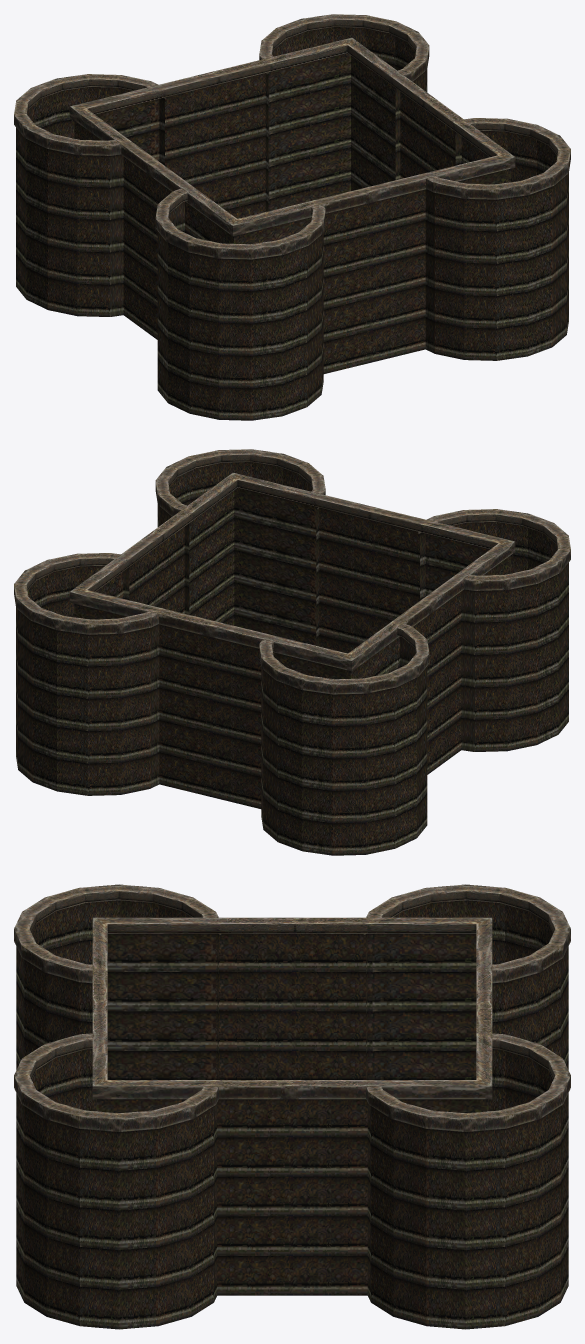
File: miniboss_01.fbx
3 views of the same model, one above another, from view 1: azimuth 30°, elevation 25°; view 2: azimuth 150°, elevation 25°; view 3: azimuth 270°, elevation 25° (orthographic). The views are drawn at different scales.
Visible parts, largest first — view 1: miniboss_01; view 2: miniboss_01; view 3: miniboss_01.
Part boxes in pixels (left/top/right/bottom): miniboss_01: left=14, top=14, right=570, bottom=420; miniboss_01: left=14, top=449, right=570, bottom=855; miniboss_01: left=14, top=884, right=570, bottom=1329.
Bounding box in the file's own units: 43.22 × 18.05 × 43.22.
